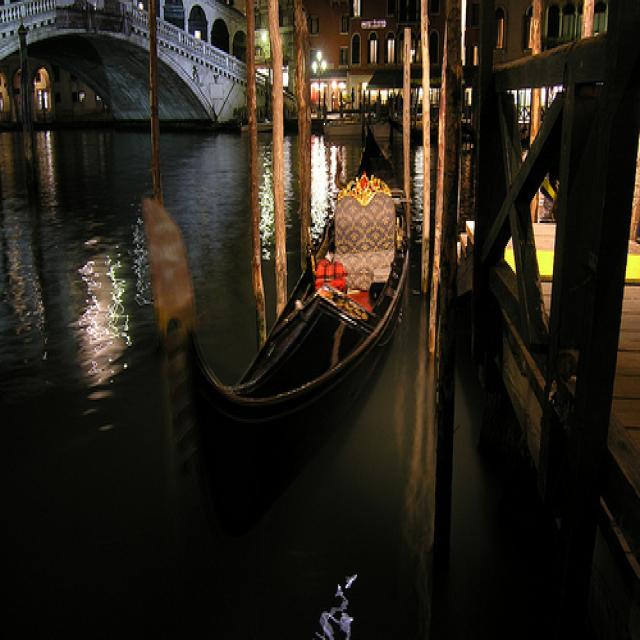Boat: (149, 118, 427, 469)
